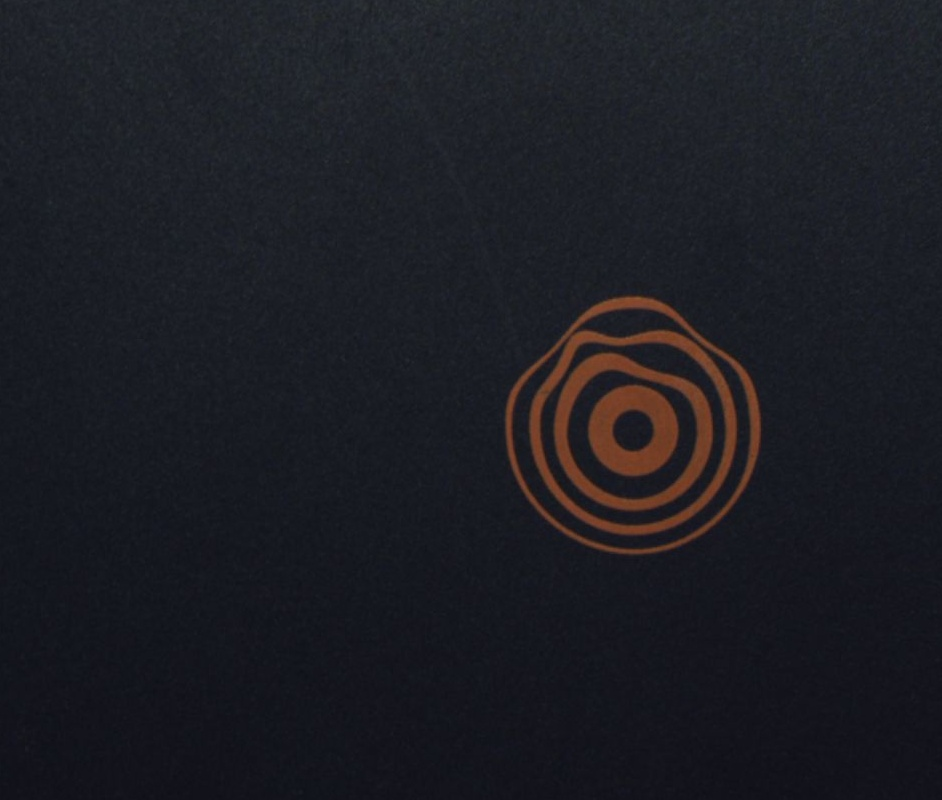BU_HG680GY: (498, 290, 766, 559)
